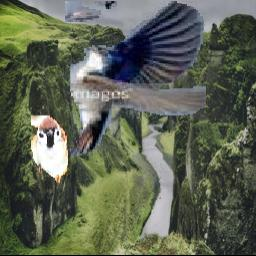Sparrow: (32, 115, 69, 190)
Swallow: (66, 1, 207, 156)
